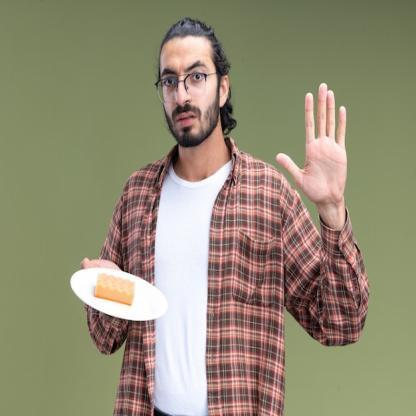stop: (272, 80, 353, 218)
